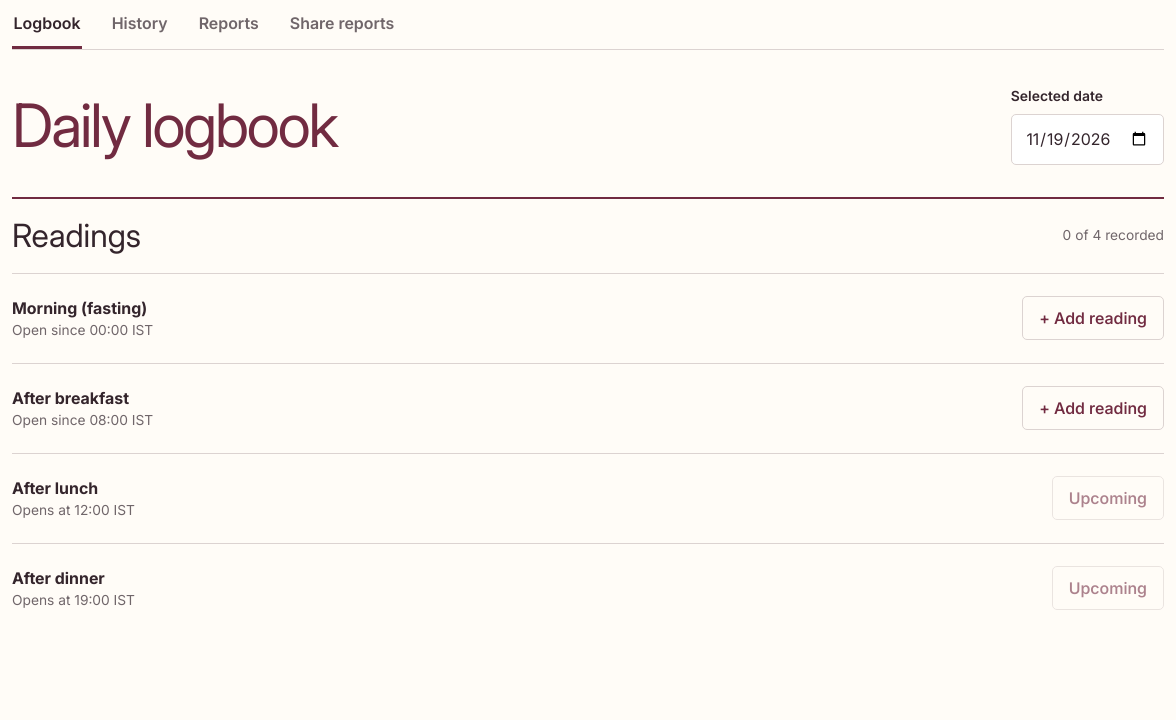
Test case: reading form › shows a future-date error and keeps the last valid date active
Expected: the heading "Readings" is shown, [12,219,141,253]
Type "2026-11-20" into the date field labelled "Selected date" at [1087, 139], box [1011,114,1164,165]
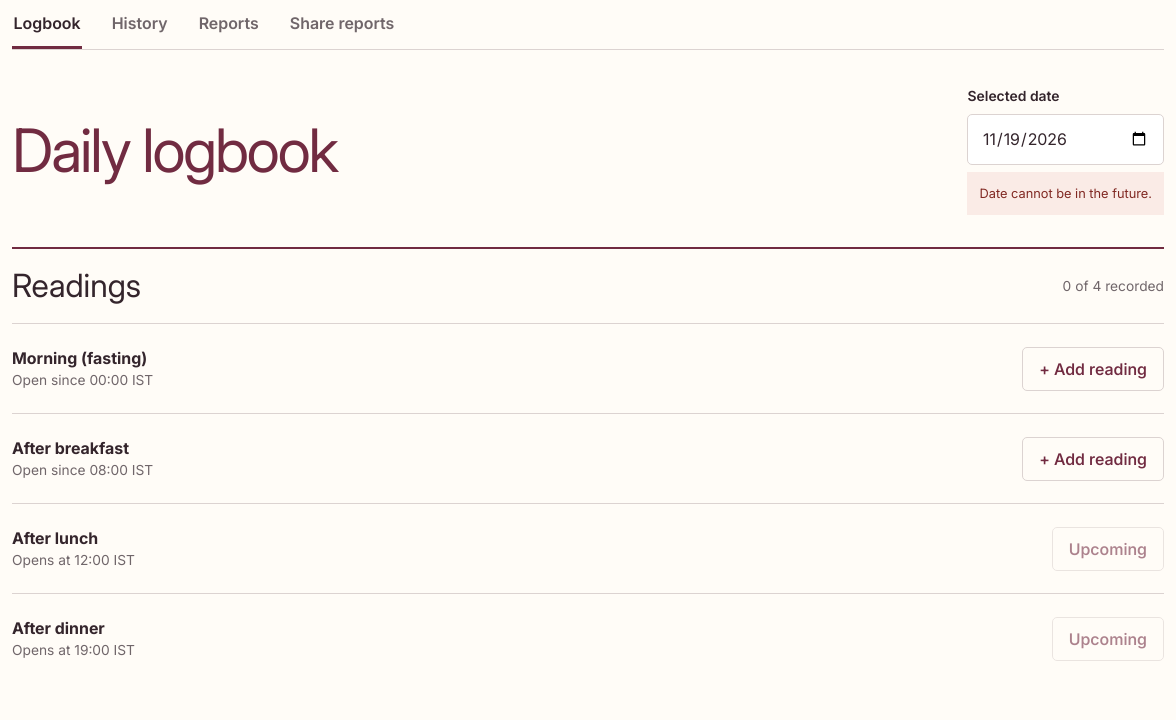
Expected: the message reads "Date cannot be in the future.", [980,186,1152,201]
Type "2026-11-18" into the date field labelled "Selected date" at [1066, 139], box [968,114,1164,165]
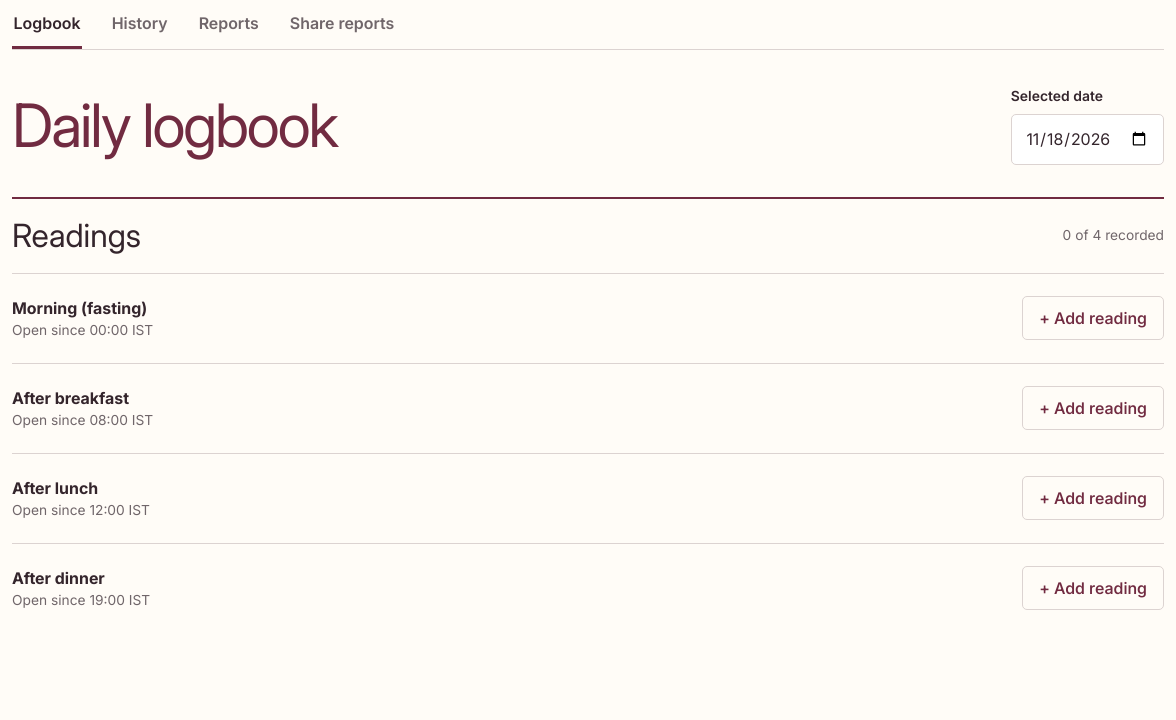
Expected: the message "Date cannot be in the future." is gone
